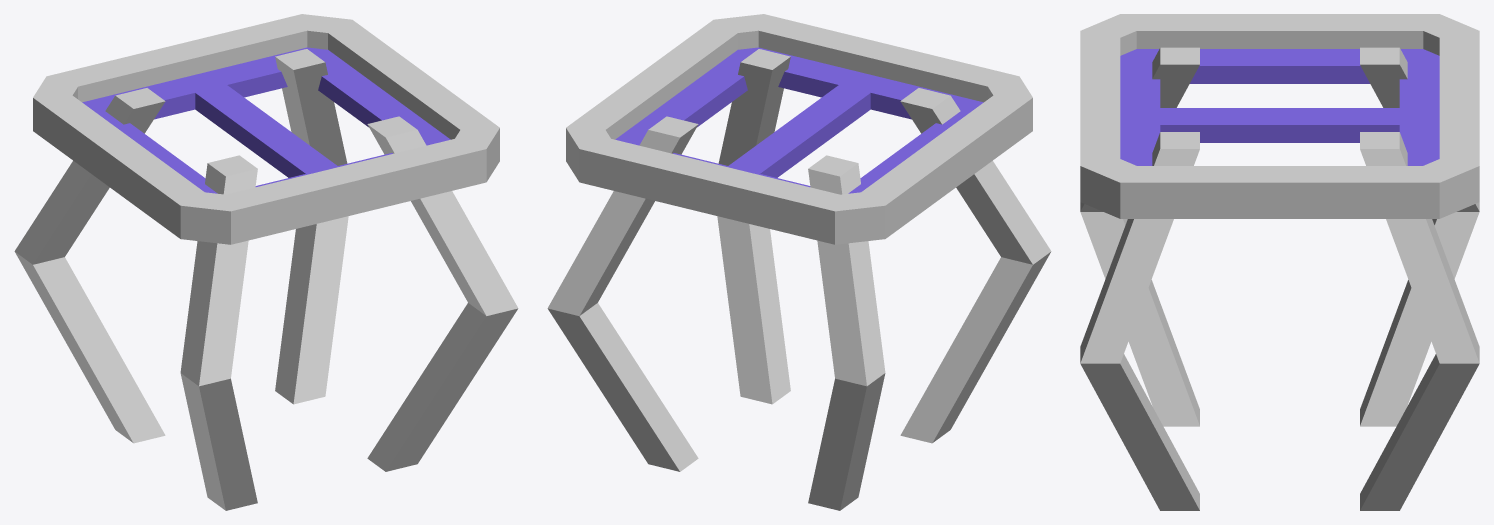
File: walking_00_00.obj
3 renders of one model, left to right at view 1: azimuth 30°, elevation 25°; view 2: azimuth 150°, elevation 25°; view 3: azimuth 270°, elevation 25°, orthographic. The views are drawn at different scales.
Parts seen in each view (by area): view 1: mergedBlocks; view 2: mergedBlocks; view 3: mergedBlocks.
Part boxes in pixels (x1,y1,x2,y2): mergedBlocks: (14, 14, 518, 510); mergedBlocks: (547, 14, 1051, 510); mergedBlocks: (1080, 14, 1479, 510).
Bounding box in the file's own units: 1 × 1 × 1.
